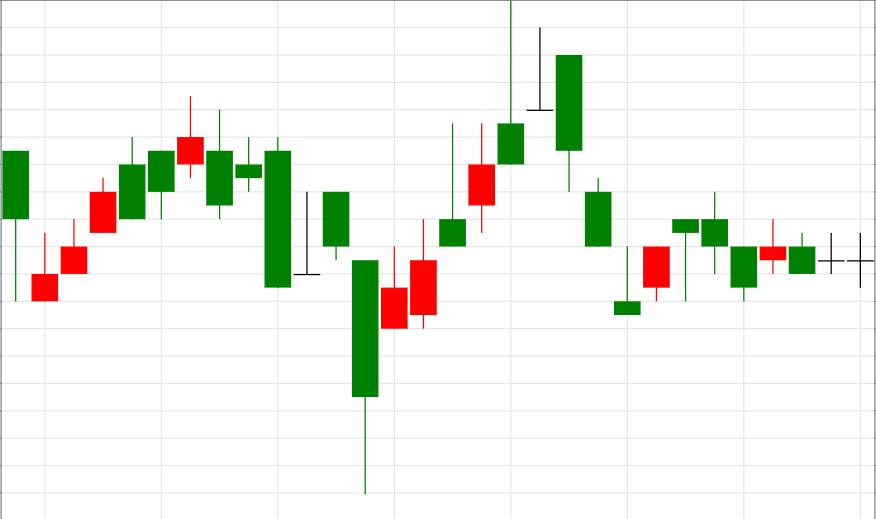shooting_star_fall: (382, 1, 525, 329)
